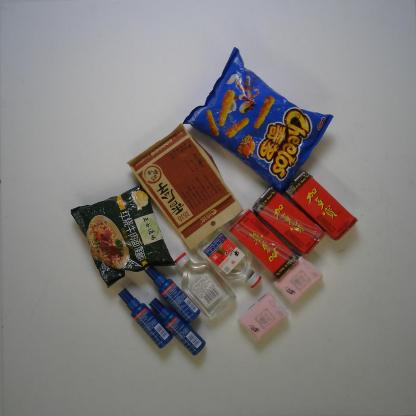Alcohol: (171, 251, 239, 321), (194, 226, 264, 291)
Dried Food: (125, 121, 246, 252)
Drink: (283, 170, 360, 243), (250, 186, 327, 257), (228, 207, 299, 280)
Instant Noodles: (68, 184, 177, 290)
Personal Hygiene: (115, 286, 175, 351), (146, 297, 208, 358), (144, 264, 202, 325)
Puffed Food: (179, 44, 336, 196)
Tissue: (235, 291, 291, 344), (272, 254, 325, 306)
